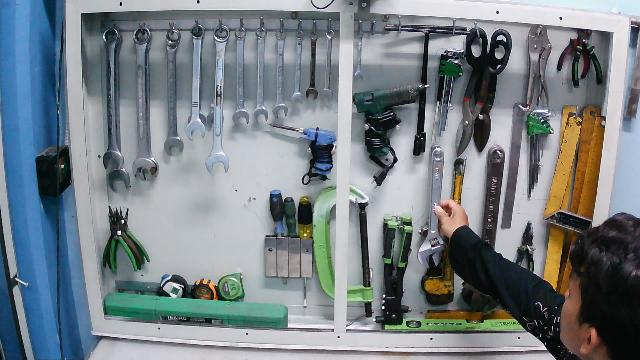kunci_inggris: (418, 143, 445, 268)
